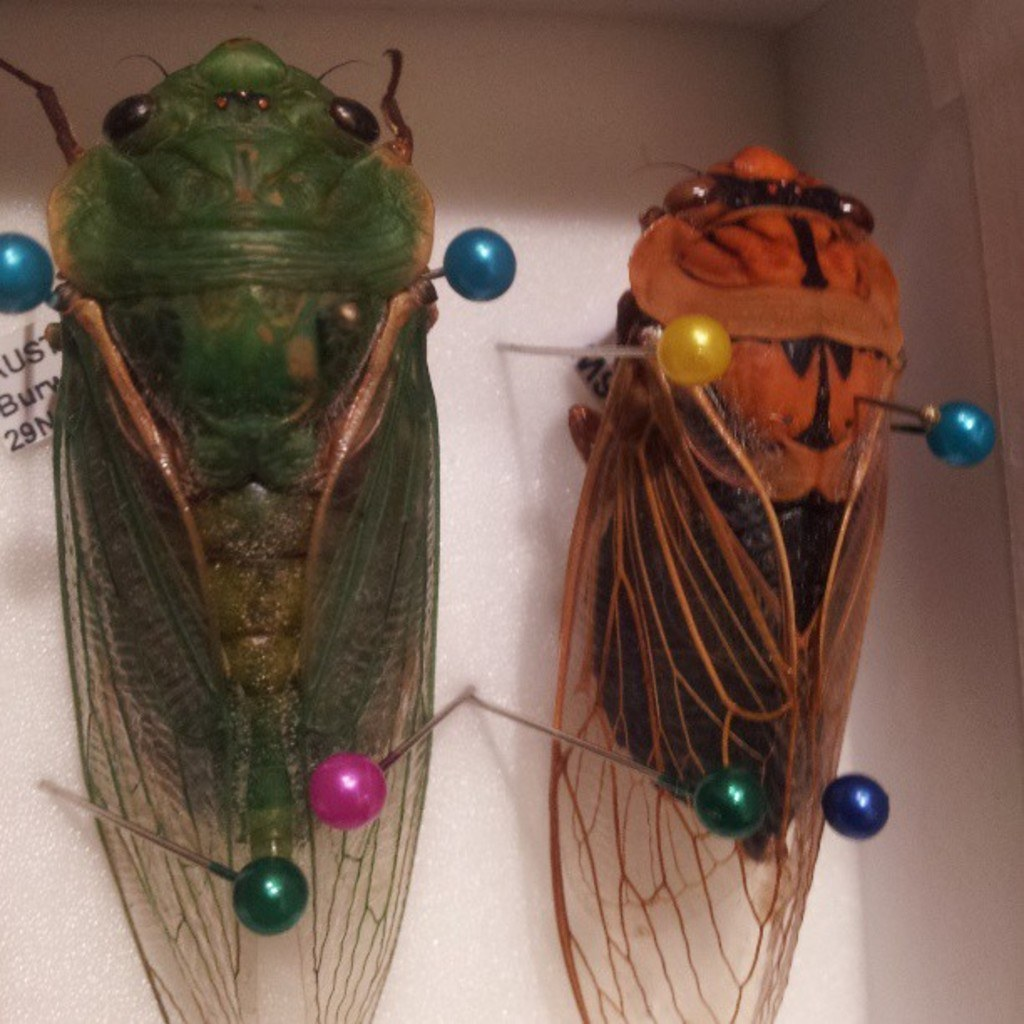insect: (0, 35, 440, 1022), (545, 142, 907, 1022)
